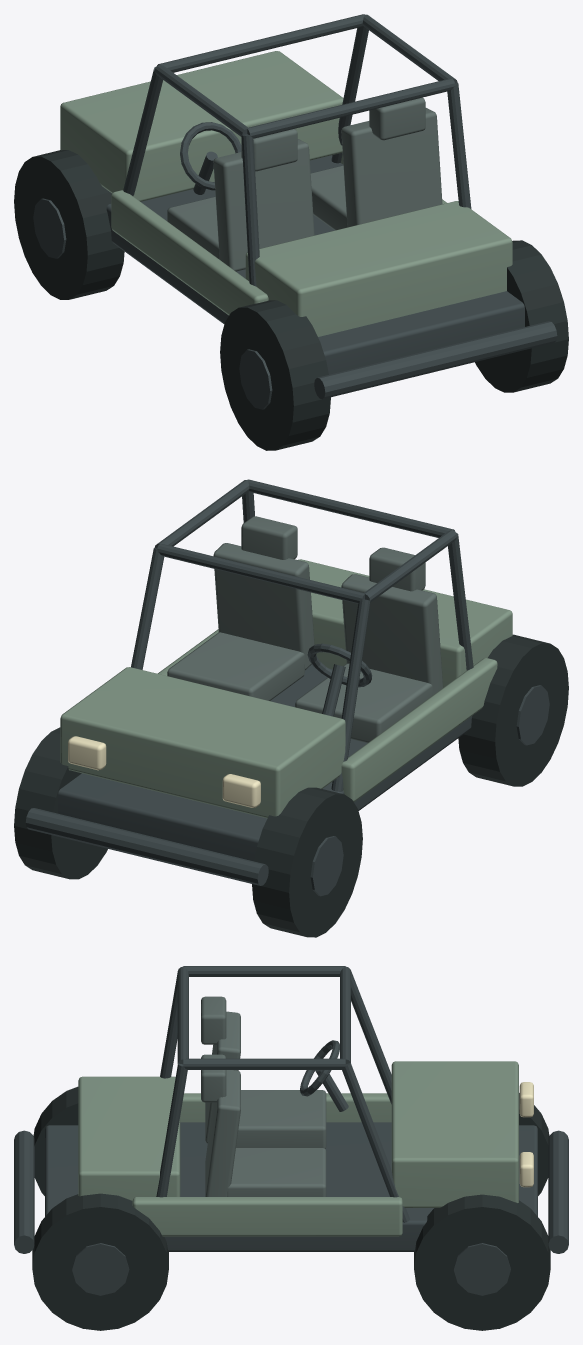
The model's file is buggy.glb.
3 views of the same model, one above another, from view 1: azimuth 30°, elevation 25°; view 2: azimuth 150°, elevation 25°; view 3: azimuth 270°, elevation 25° (orthographic). The views are drawn at different scales.
Parts seen in each view (by area): view 1: Rear engine cover, Hood, Wheel_RL, Chassis, Wheel_FL, Seat back.001, Seat back, Side sill, Wheel_RR, Bumper, Roof cross rail.001, Roof cross rail (+13 smaller); view 2: Hood, Chassis, Wheel_FL, Wheel_RL, Seat back.001, Seat back, Side sill, Rear engine cover, Wheel_FR, Seat cushion.001, Bumper.001, Seat cushion (+15 smaller); view 3: Hood, Chassis, Wheel_FR, Wheel_RR, Rear engine cover, Side sill.001, Seat cushion, Seat cushion.001, Seat back.001, Bumper, Bumper.001, Wheel hub.002 (+18 smaller).
Part boxes in pixels (<box>): Rear engine cover: <box>245,201,512,336</box>; Hood: <box>60,51,343,201</box>; Wheel_RL: <box>220,300,330,450</box>; Chassis: <box>106,155,524,374</box>; Wheel_FL: <box>14,150,124,299</box>; Seat back.001: <box>341,108,442,227</box>; Seat back: <box>213,139,314,271</box>; Side sill: <box>111,190,268,315</box>; Wheel_RR: <box>475,240,568,392</box>; Bumper: <box>314,321,557,399</box>; Roof cross rail.001: <box>247,78,455,138</box>; Roof cross rail: <box>157,14,364,72</box>; Hood: <box>60,667,345,818</box>; Chassis: <box>58,664,471,861</box>; Wheel_FL: <box>252,787,362,937</box>; Wheel_RL: <box>458,634,568,786</box>; Seat back.001: <box>213,543,314,670</box>; Seat back: <box>341,574,443,695</box>; Side sill: <box>341,658,497,801</box>; Rear engine cover: <box>298,559,512,687</box>; Wheel_FR: <box>14,727,107,879</box>; Seat cushion.001: <box>167,632,304,700</box>; Bumper.001: <box>25,808,268,885</box>; Seat cushion: <box>295,663,432,742</box>; Hood: <box>391,1061,518,1207</box>; Chassis: <box>45,1122,537,1251</box>; Wheel_FR: <box>414,1194,550,1330</box>; Wheel_RR: <box>32,1193,168,1330</box>; Rear engine cover: <box>78,1076,180,1200</box>; Side sill.001: <box>132,1197,402,1236</box>; Seat cushion: <box>236,1090,326,1148</box>; Seat cushion.001: <box>227,1148,326,1196</box>; Seat back.001: <box>205,1070,240,1196</box>; Bumper: <box>14,1130,34,1253</box>; Bumper.001: <box>548,1130,568,1253</box>; Wheel hub.002: <box>72,1243,129,1295</box>.
Size of the model in its own units: 1.88 by 1.78 by 3.49.
